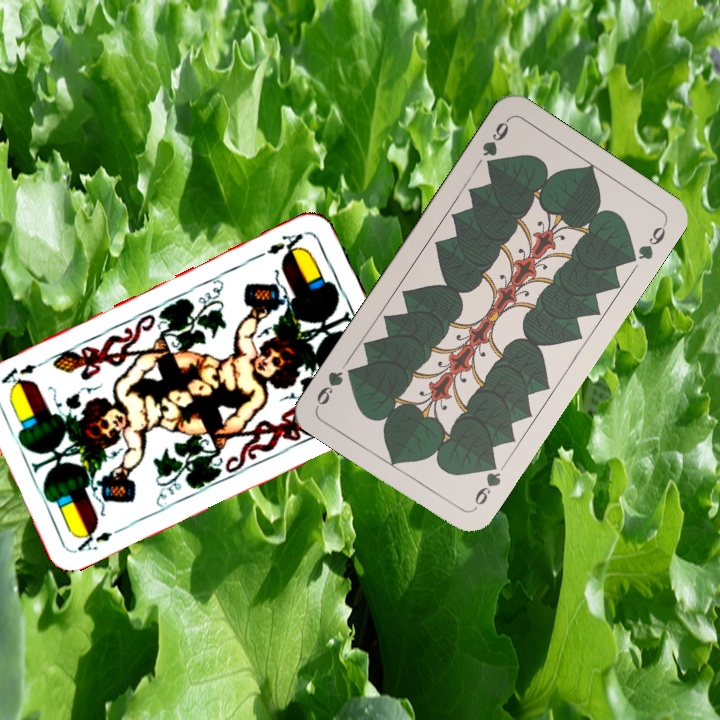EA: (72, 522, 128, 554), (263, 229, 308, 260)
G9: (469, 455, 504, 513), (478, 115, 512, 173)
